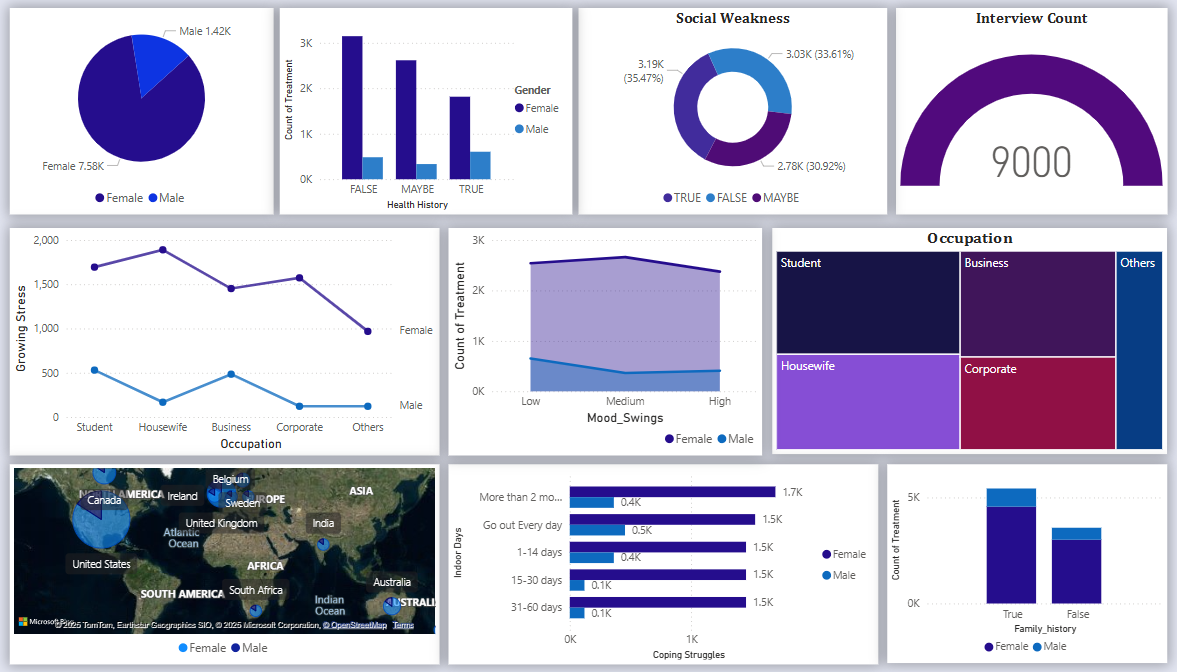

The dashboard page shown, as its layout file describes it:
{"tool":"powerbi","page":{"name":"Page 1","canvas":[1354,772],"ordinal":0},"visuals":[{"type":"pieChart","fields":{"Y":["CountNonNull(Mental_Health_Dataset_.Gender)"],"Category":["Mental_Health_Dataset_.Gender"]},"box":[15.7,11.4,301.4,235.7],"z":0},{"type":"gauge","title":"Interview Count","fields":{"Y":["CountNonNull(Mental_Health_Dataset_.Mental_health_interview)"]},"box":[1028.6,11.4,310,235.7],"z":1000},{"type":"donutChart","title":"Social Weakness","fields":{"Category":["Mental_Health_Dataset_.Social_Weakness"],"Y":["CountNonNull(Mental_Health_Dataset_.Social_Weakness)"]},"box":[665.7,11.4,352.9,235.7],"z":2000},{"type":"clusteredColumnChart","fields":{"Series":["Mental_Health_Dataset_.Gender"],"Category":["Mental_Health_Dataset_.Mental_Health_History"],"Y":["CountNonNull(Mental_Health_Dataset_.Treatment)"]},"box":[324.3,11.4,334.3,235.7],"z":3000},{"type":"lineChart","fields":{"Category":["Mental_Health_Dataset_.Occupation"],"Series":["Mental_Health_Dataset_.Gender"],"Y":["CountNonNull(Mental_Health_Dataset_.Growing_Stress)"]},"box":[15.7,262.9,491.4,260],"z":4000},{"type":"map","fields":{"Category":["Mental_Health_Dataset_.Country"],"Series":["Mental_Health_Dataset_.Gender"],"Size":["CountNonNull(Mental_Health_Dataset_.Care_options)"]},"box":[15.7,532.9,491.4,228.6],"z":5000},{"type":"treemap","title":"Occupation","fields":{"Group":["Mental_Health_Dataset_.Occupation"],"Values":["CountNonNull(Mental_Health_Dataset_.Work_Interest)"]},"box":[887.1,262.9,451.4,258.6],"z":6000},{"type":"clusteredBarChart","fields":{"Series":["Mental_Health_Dataset_.Gender"],"Category":["Mental_Health_Dataset_.Days_Indoors"],"Y":["CountNonNull(Mental_Health_Dataset_.Coping_Struggles)"]},"box":[517.1,532.9,491.4,228.6],"z":7000},{"type":"areaChart","fields":{"Category":["Mental_Health_Dataset_.Mood_Swings"],"Series":["Mental_Health_Dataset_.Gender"],"Y":["CountNonNull(Mental_Health_Dataset_.Treatment)"]},"box":[517.1,262.9,358.6,260],"z":8000},{"type":"lineStackedColumnComboChart","fields":{"Category":["Mental_Health_Dataset_.Family_history"],"Series":["Mental_Health_Dataset_.Gender"],"Y":["CountNonNull(Mental_Health_Dataset_.Treatment)"]},"box":[1018.6,532.9,320,227.1],"z":9000}]}

Visuals, with their boxes in screenshot pixels (x1, y1, x2, y2), scaled from the page's 1354x772 canvas onto the 1177x672 screenshot:
pieChart - CountNonNull(Mental_Health_Dataset_.Gender) x Mental_Health_Dataset_.Gender: {"x1": 14, "y1": 10, "x2": 276, "y2": 215}
"Interview Count" gauge: {"x1": 894, "y1": 10, "x2": 1164, "y2": 215}
"Social Weakness" donutChart: {"x1": 579, "y1": 10, "x2": 885, "y2": 215}
clusteredColumnChart - Mental_Health_Dataset_.Gender x Mental_Health_Dataset_.Mental_Health_History: {"x1": 282, "y1": 10, "x2": 573, "y2": 215}
lineChart - Mental_Health_Dataset_.Occupation x Mental_Health_Dataset_.Gender: {"x1": 14, "y1": 229, "x2": 441, "y2": 455}
map - Mental_Health_Dataset_.Country x Mental_Health_Dataset_.Gender: {"x1": 14, "y1": 464, "x2": 441, "y2": 663}
"Occupation" treemap: {"x1": 771, "y1": 229, "x2": 1164, "y2": 454}
clusteredBarChart - Mental_Health_Dataset_.Gender x Mental_Health_Dataset_.Days_Indoors: {"x1": 450, "y1": 464, "x2": 877, "y2": 663}
areaChart - Mental_Health_Dataset_.Mood_Swings x Mental_Health_Dataset_.Gender: {"x1": 450, "y1": 229, "x2": 761, "y2": 455}
lineStackedColumnComboChart - Mental_Health_Dataset_.Family_history x Mental_Health_Dataset_.Gender: {"x1": 885, "y1": 464, "x2": 1164, "y2": 662}
